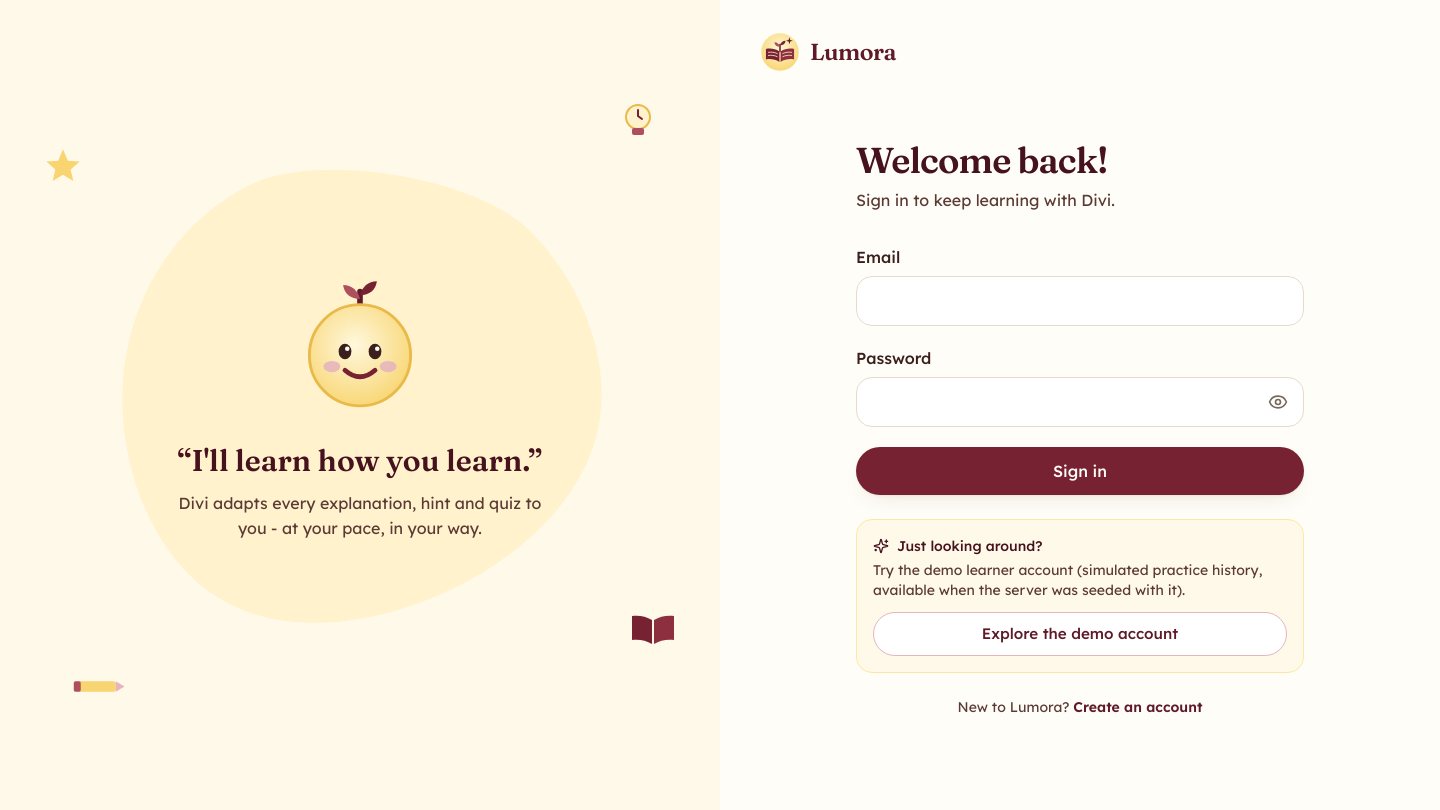
Scenario: auth › shows the server's message when sign-in fails
Type "kid@example.com" into the field labelled "Email" at (1080, 301), box [856,276,1304,326]
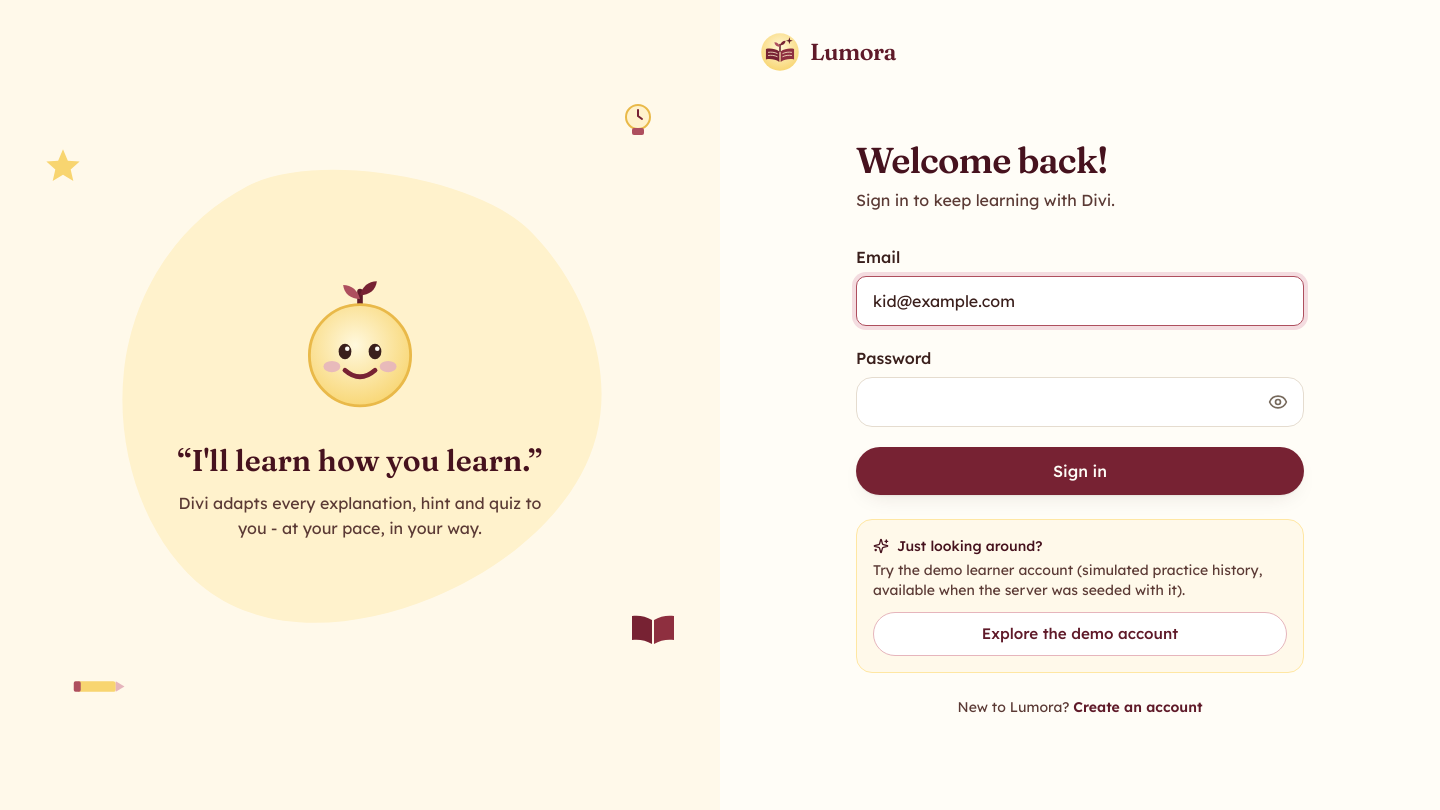
Type "wrongpass1" into the password field labelled "Password" at (1080, 402), box [856,377,1304,427]
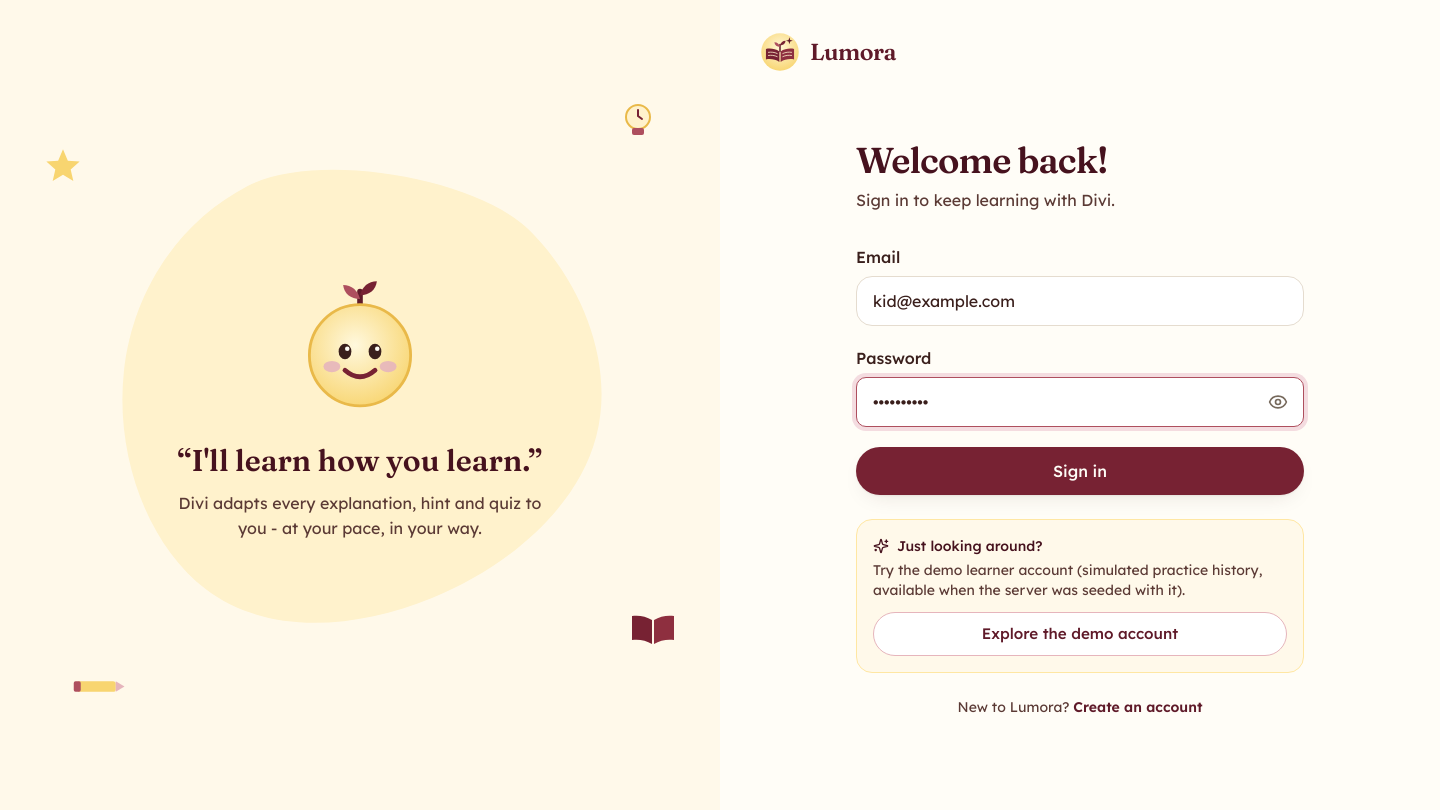
Click the button "Sign in" at (1080, 471), box [856,447,1304,495]
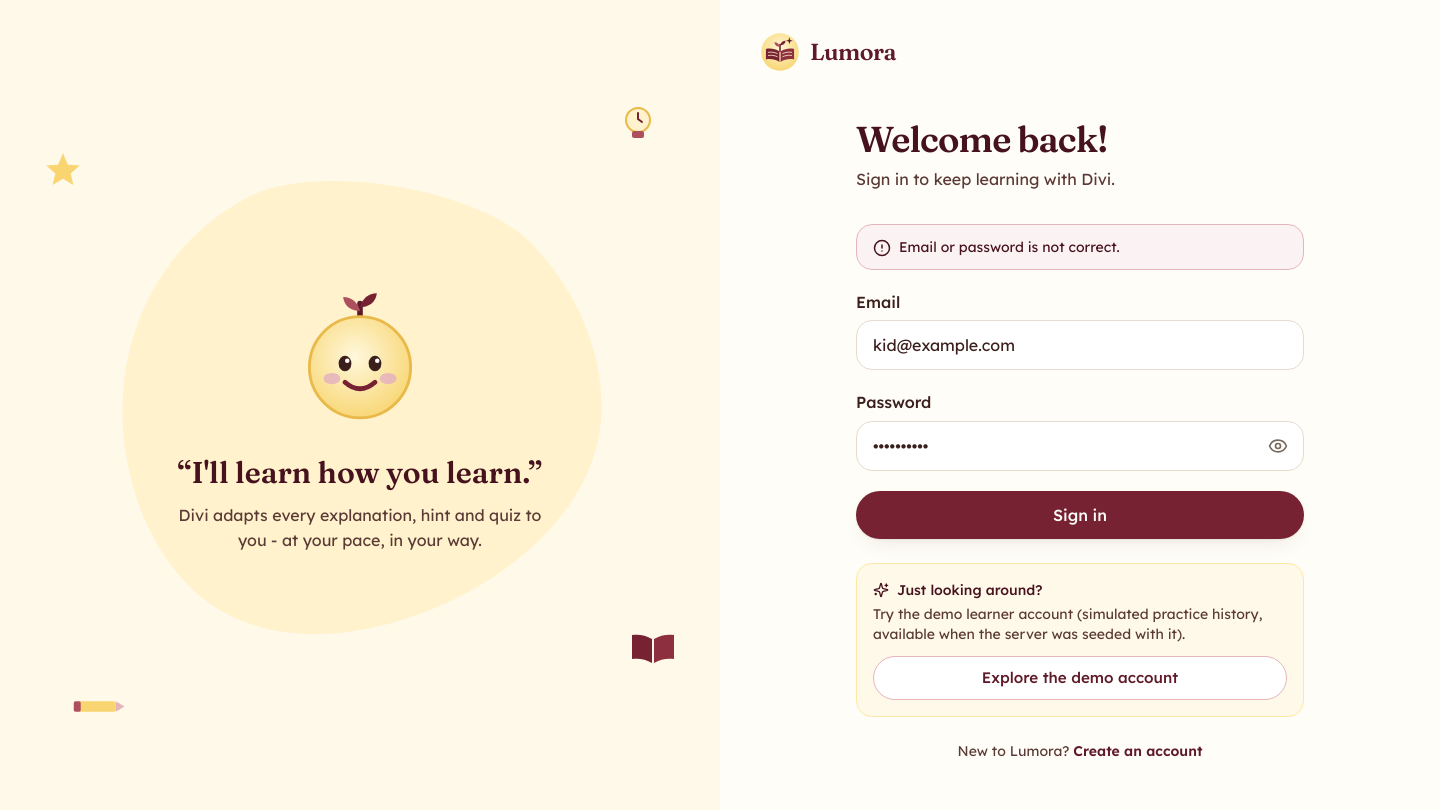
Expected: the message reads "Email or password is not correct.", [899,238,1120,256]
